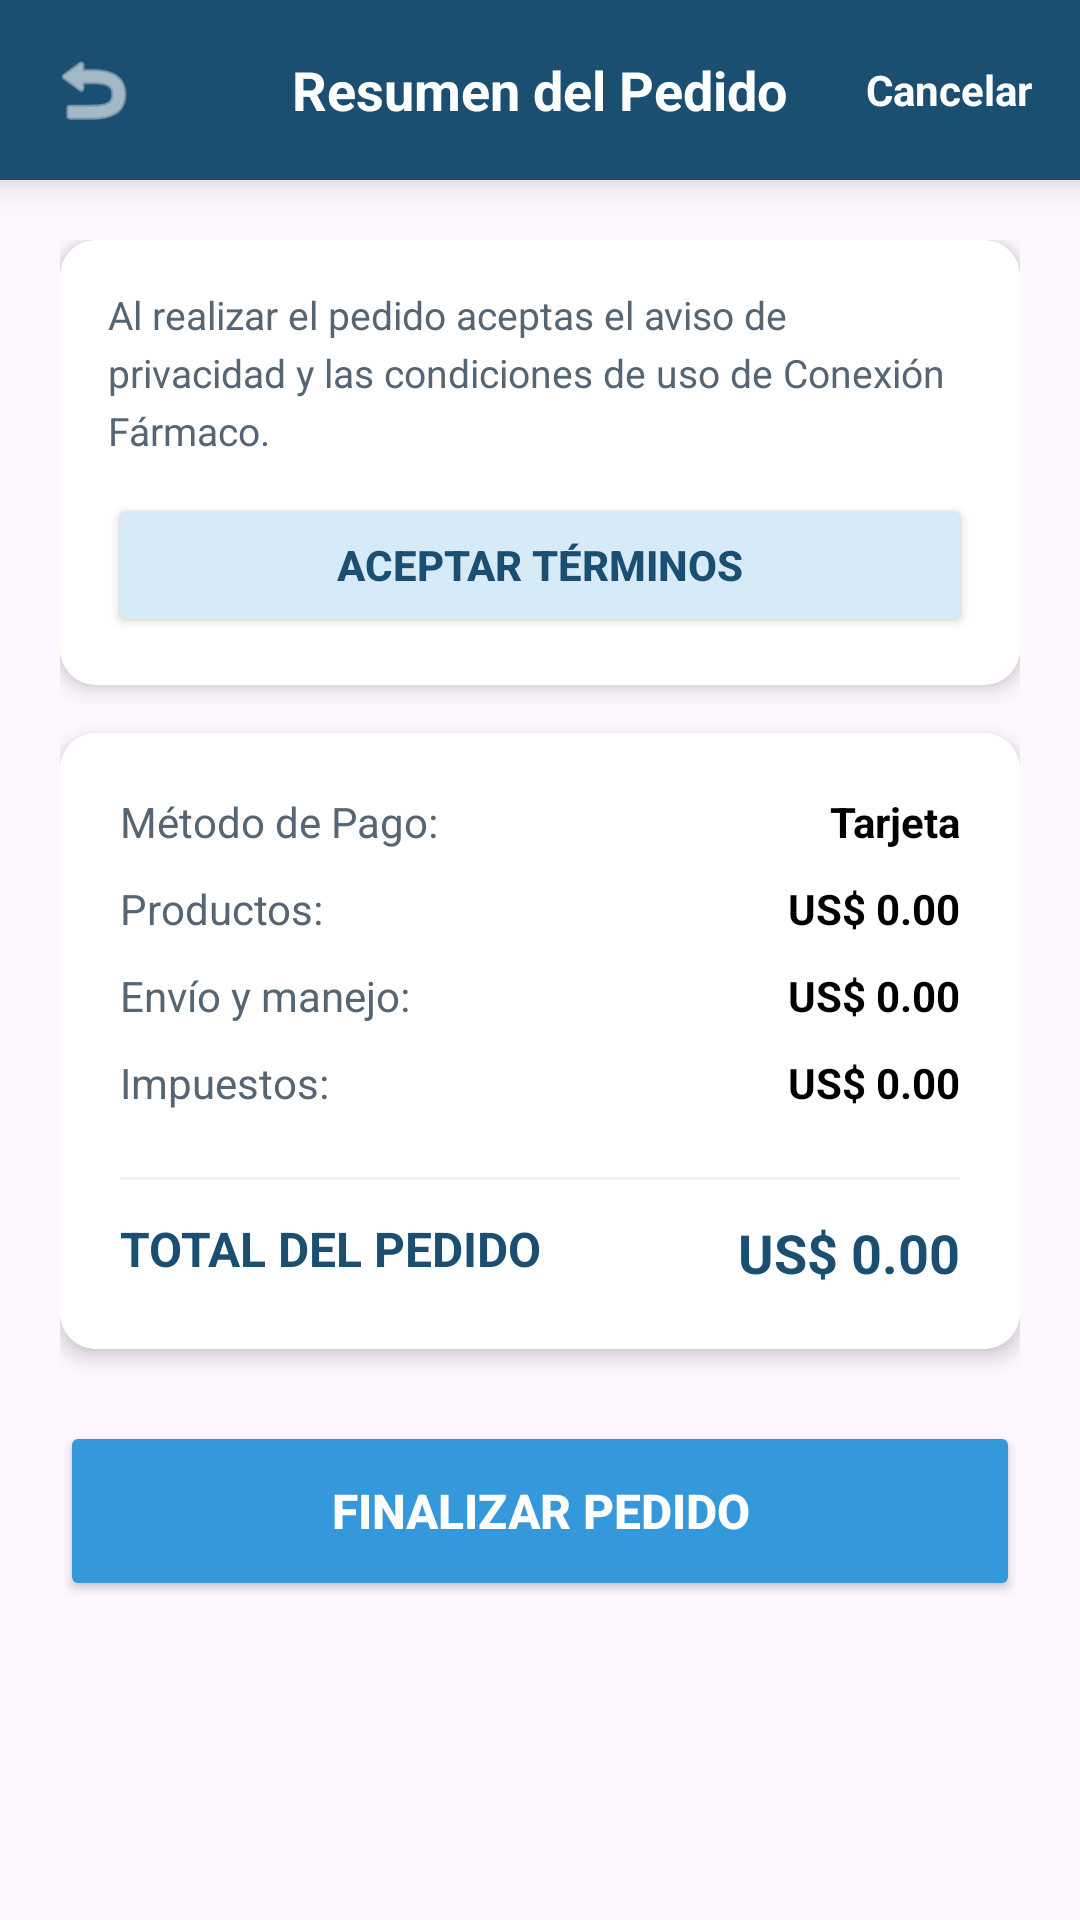

Where to tap for icons on this 1080w x 1920h app screen, as [x,y]:
Atrás: [94,90]
